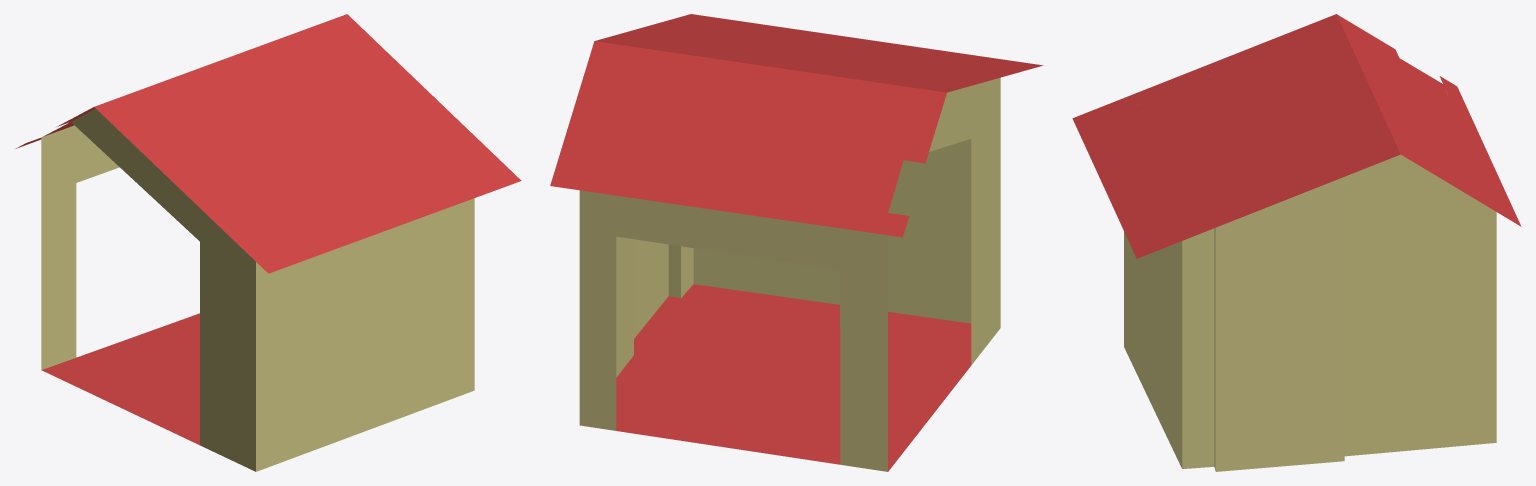
3 renders of one model, left to right at view 1: azimuth 30°, elevation 25°; view 2: azimuth 150°, elevation 25°; view 3: azimuth 270°, elevation 25°, orthographic. The views are drawn at different scales.
Size of the model in its own units: 13.3 by 14.69 by 11.01.
